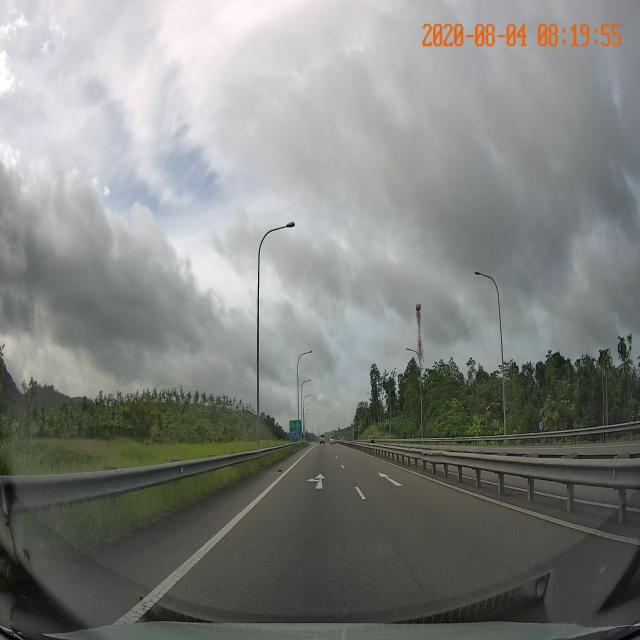Strelka vpered: (378, 471, 405, 487)
Strelka vpered - vlevo: (306, 473, 326, 490)
